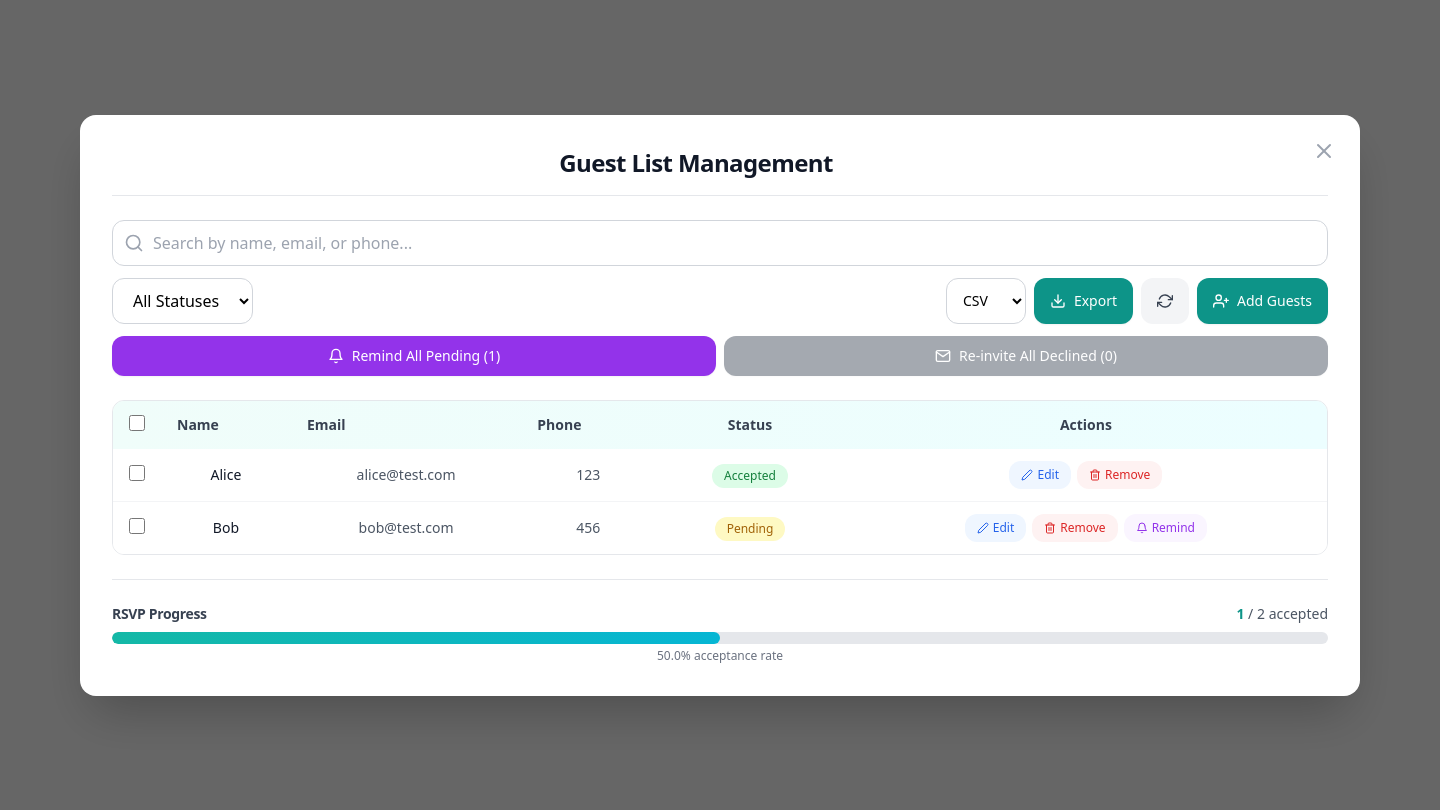
Test: RSVPModal › filters guests by status
Select "Pending" in the 1st dropdown: point(182, 300) [112, 278, 253, 324]
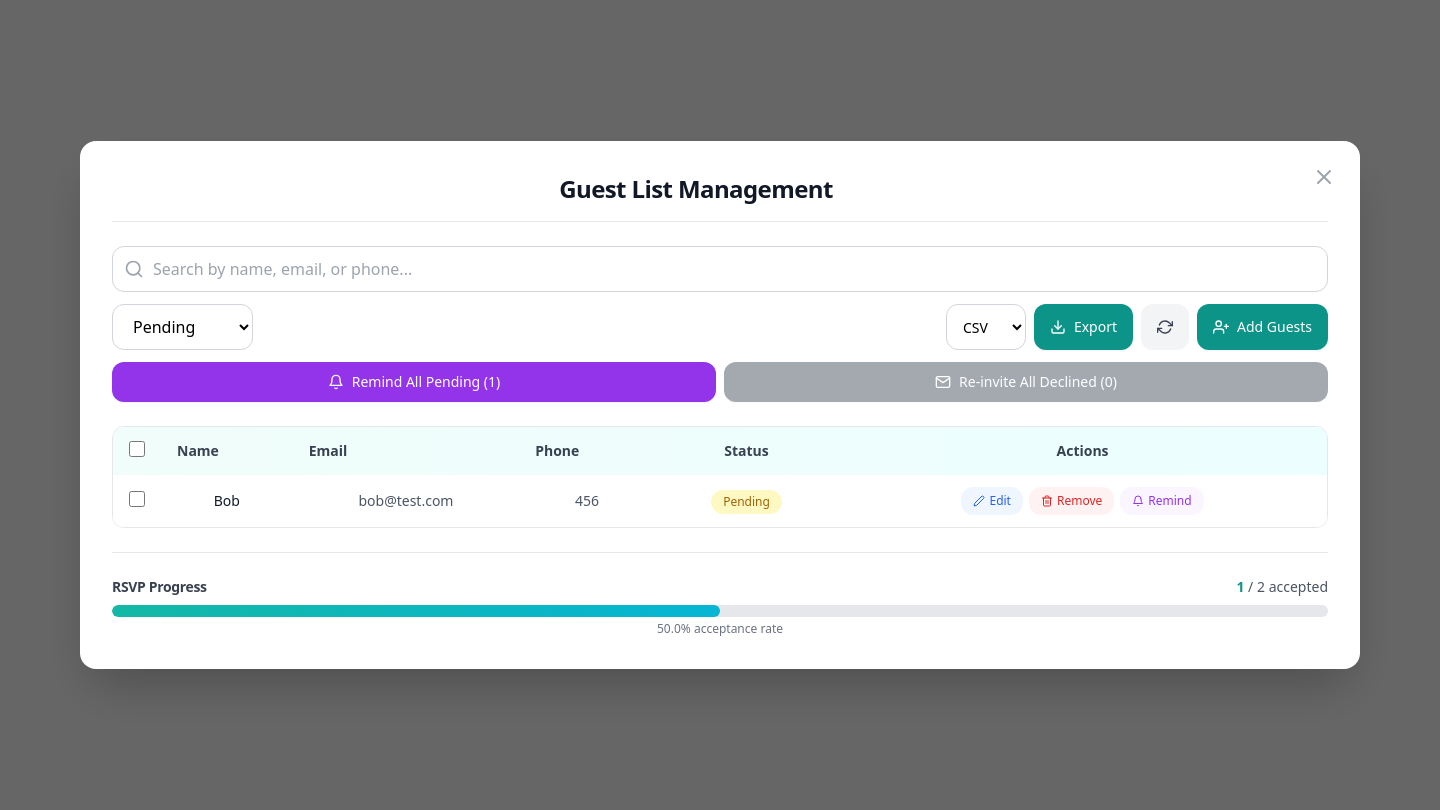
Expected: the text "Bob" is shown, [161, 475, 293, 527]
Expected: the text "Alice" is gone
